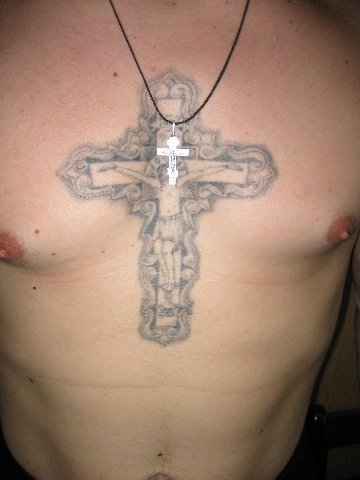tatu9_krest: (61, 42, 296, 360)
